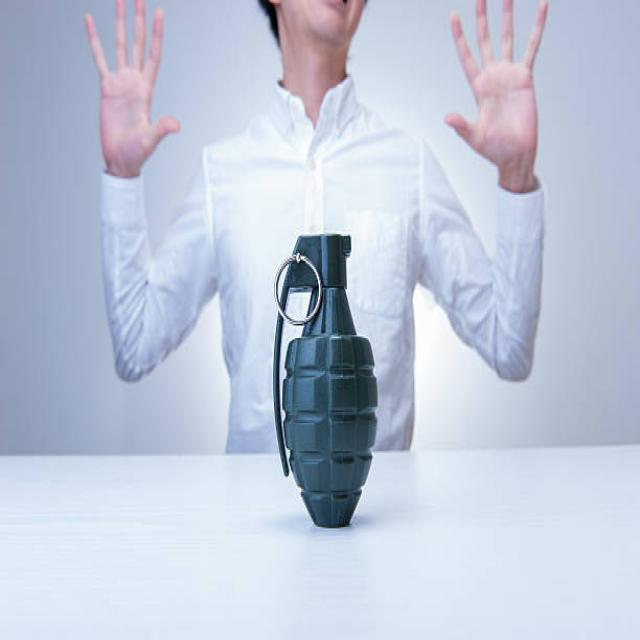grenade: (275, 228, 382, 525)
